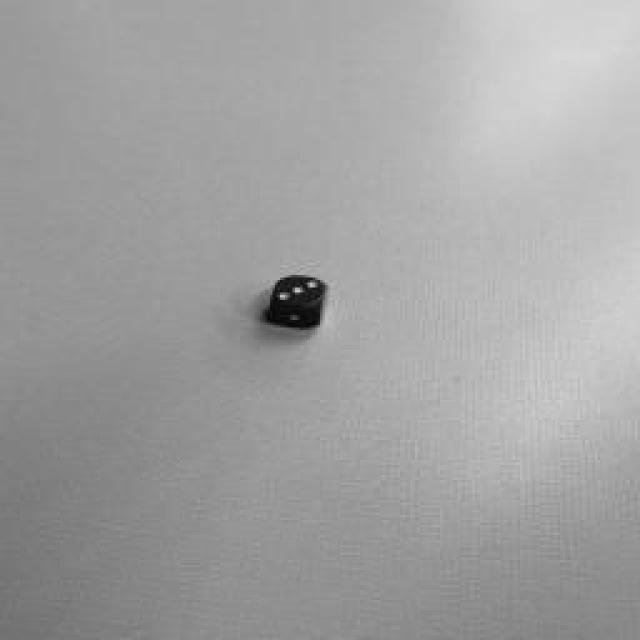dice_3: (273, 276, 325, 306)
